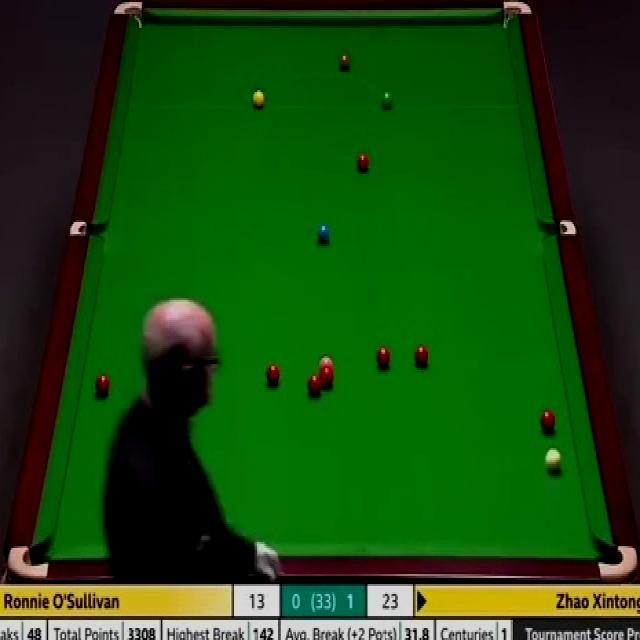blue-ball: (316, 223, 330, 244)
brown-ball: (338, 53, 350, 71)
green-ball: (380, 89, 393, 110)
pink-ball: (318, 354, 335, 372)
red-ball: (539, 408, 556, 432), (94, 372, 111, 394), (265, 365, 281, 386), (414, 344, 429, 366), (308, 375, 322, 397), (377, 346, 391, 368), (356, 152, 370, 172), (318, 370, 334, 387)
white-ball: (545, 446, 562, 472)
yellow-ball: (252, 88, 265, 108)
